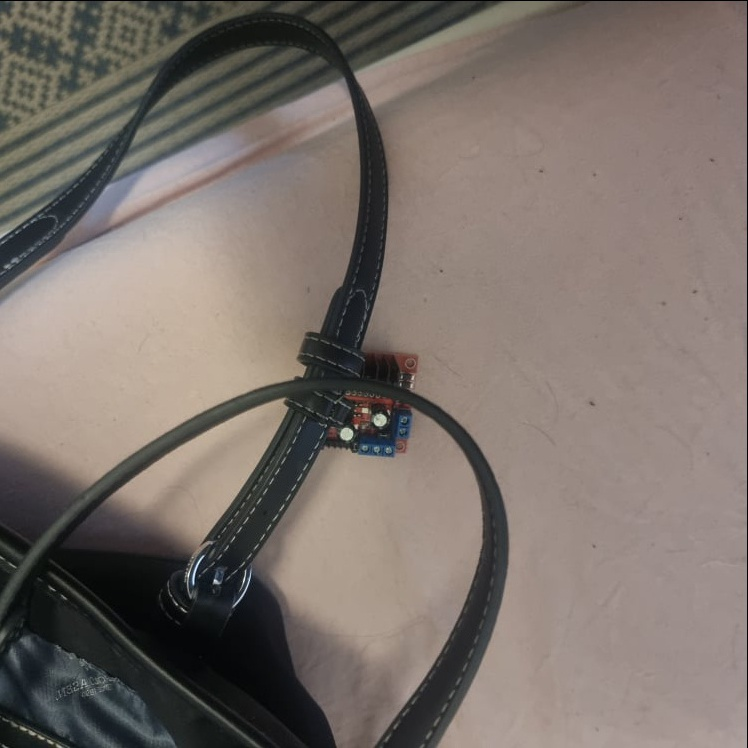MOTOR: (317, 349, 419, 457)
